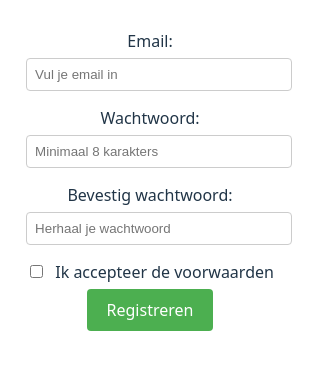
Test: RegistrationForm › should show an error when the password and confirmPassword do not match
Type "user@example.com" into the field with id "email" at (159, 74), box [26,58,292,91]
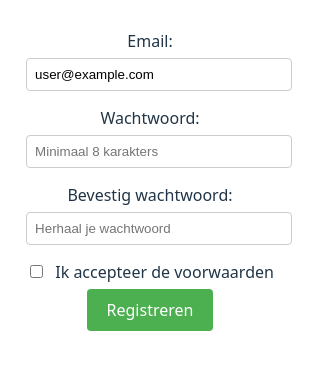
Type "password123" into the password field labelled "Wachtwoord:" at (159, 152), box [26,135,292,168]
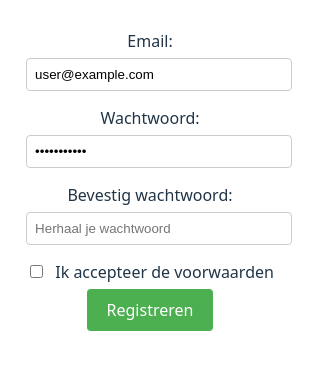
Type "Password123" into the password field with id "confirmPassword" at (159, 228), box [26,212,292,245]
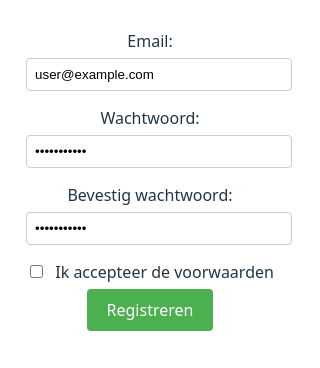
Click the checkbox with id "acceptTerms" at (37, 272), box [30,265,43,278]
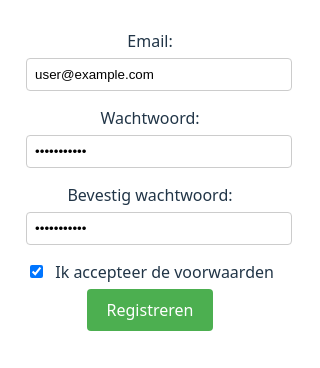
Submit the form
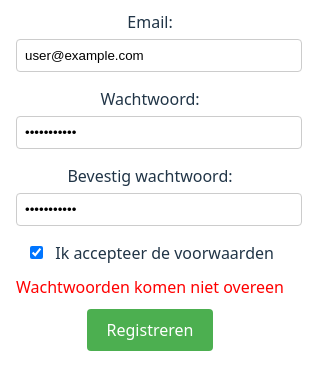
Now the text "Wachtwoorden komen niet overeen" is shown, box [16,274,284,298]
Now the text with class "error" reads "Wachtwoorden komen niet overeen", box [16,276,284,298]
